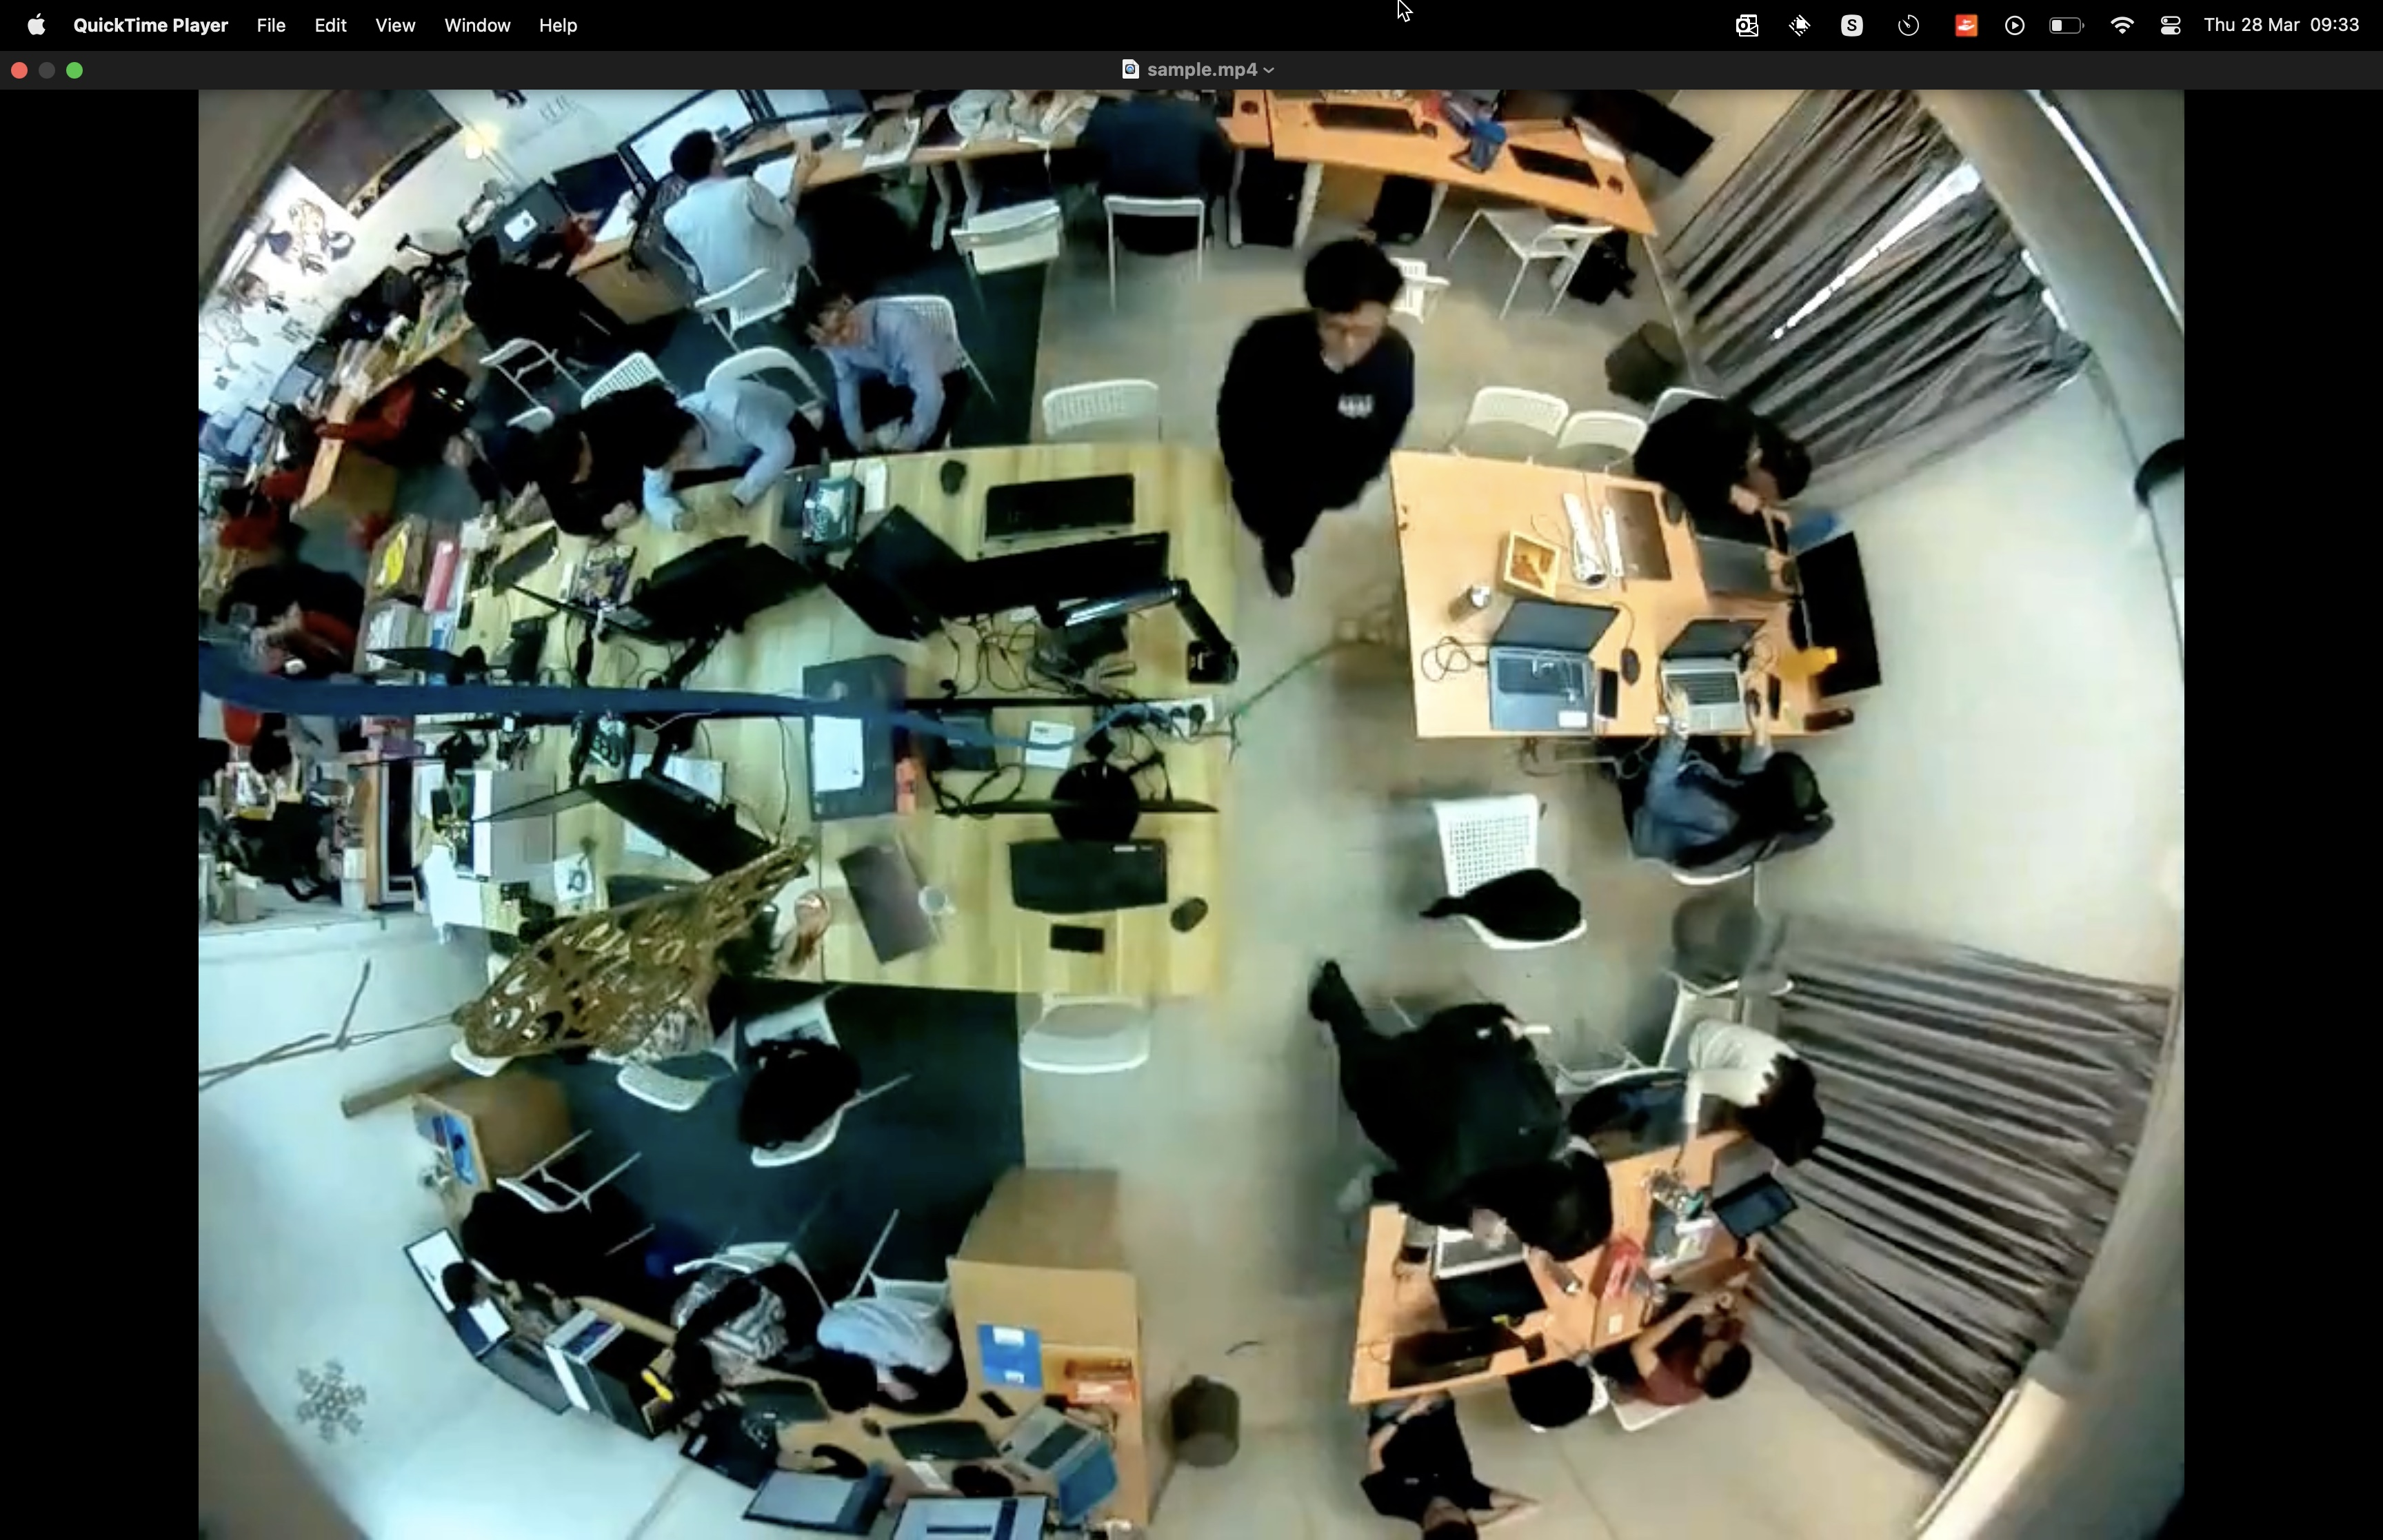Staff: (1209, 243, 1433, 596)
